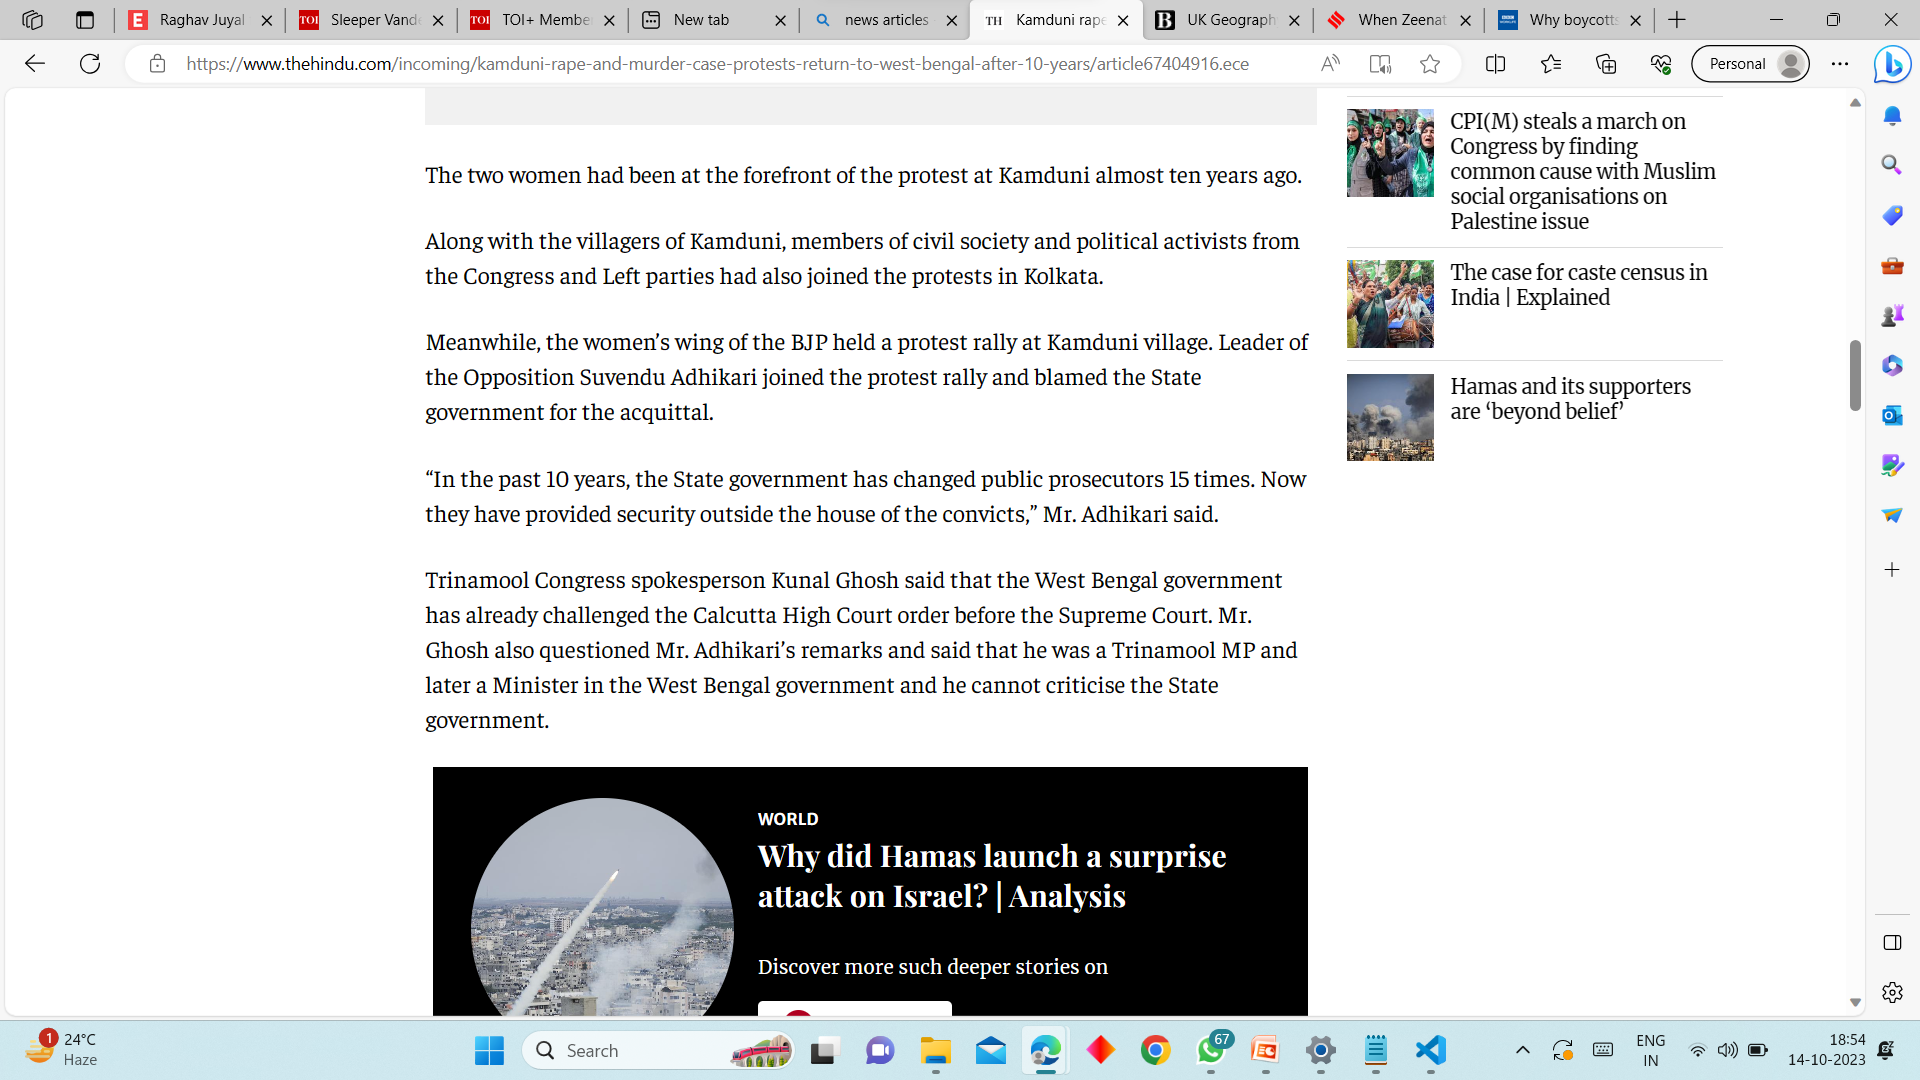Image: (438, 771, 1304, 1025), (1346, 255, 1431, 353), (1357, 371, 1440, 463), (1350, 109, 1437, 195)
Paragraph: (415, 559, 1299, 731), (421, 324, 1319, 427), (398, 459, 1356, 546), (409, 232, 1312, 293), (1437, 105, 1742, 228), (427, 157, 1312, 193), (1437, 253, 1751, 344), (1447, 369, 1753, 460)
